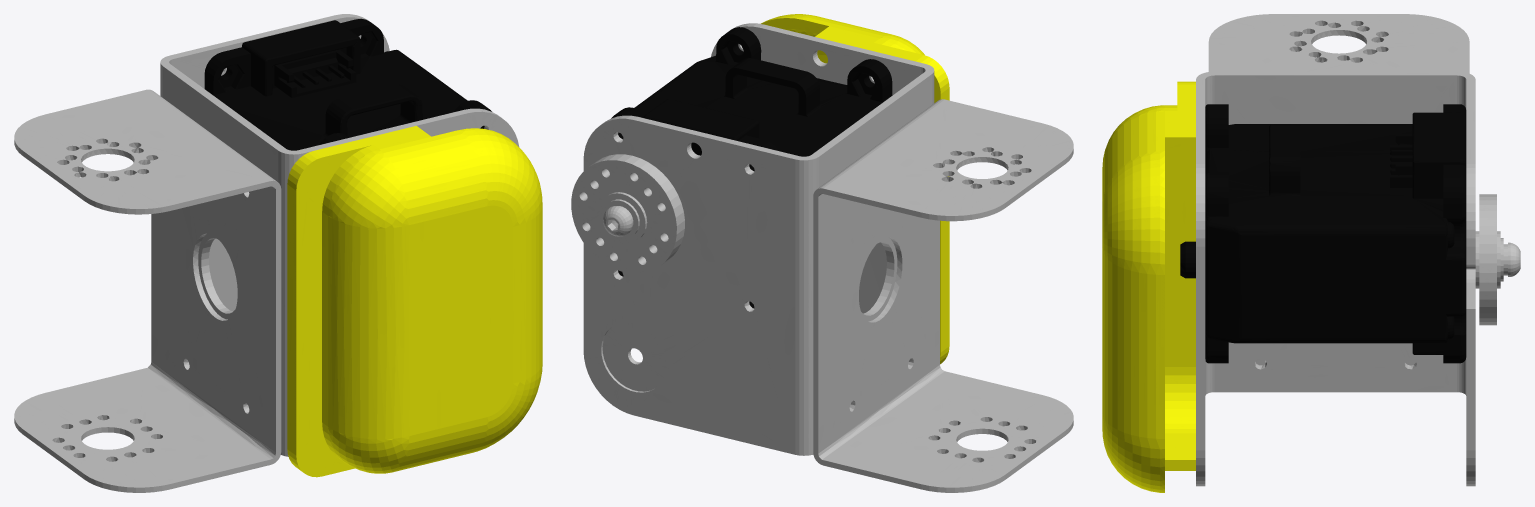
Rendered from wrist_simple_mini.dae.
3 renders of one model, left to right at view 1: azimuth 30°, elevation 25°; view 2: azimuth 150°, elevation 25°; view 3: azimuth 270°, elevation 25°, orthographic. The views are drawn at different scales.
Parts seen in each view (by area): view 1: node; view 2: node; view 3: node.
Boxes of the visible parts, box(x1,y1,x2,y2) form: node: box(14, 14, 542, 492); node: box(571, 14, 1073, 492); node: box(1102, 14, 1520, 492).
Size of the model in its own units: 7.75 by 5.93 by 6.7.
Materials: 1 (1 with a texture image).
